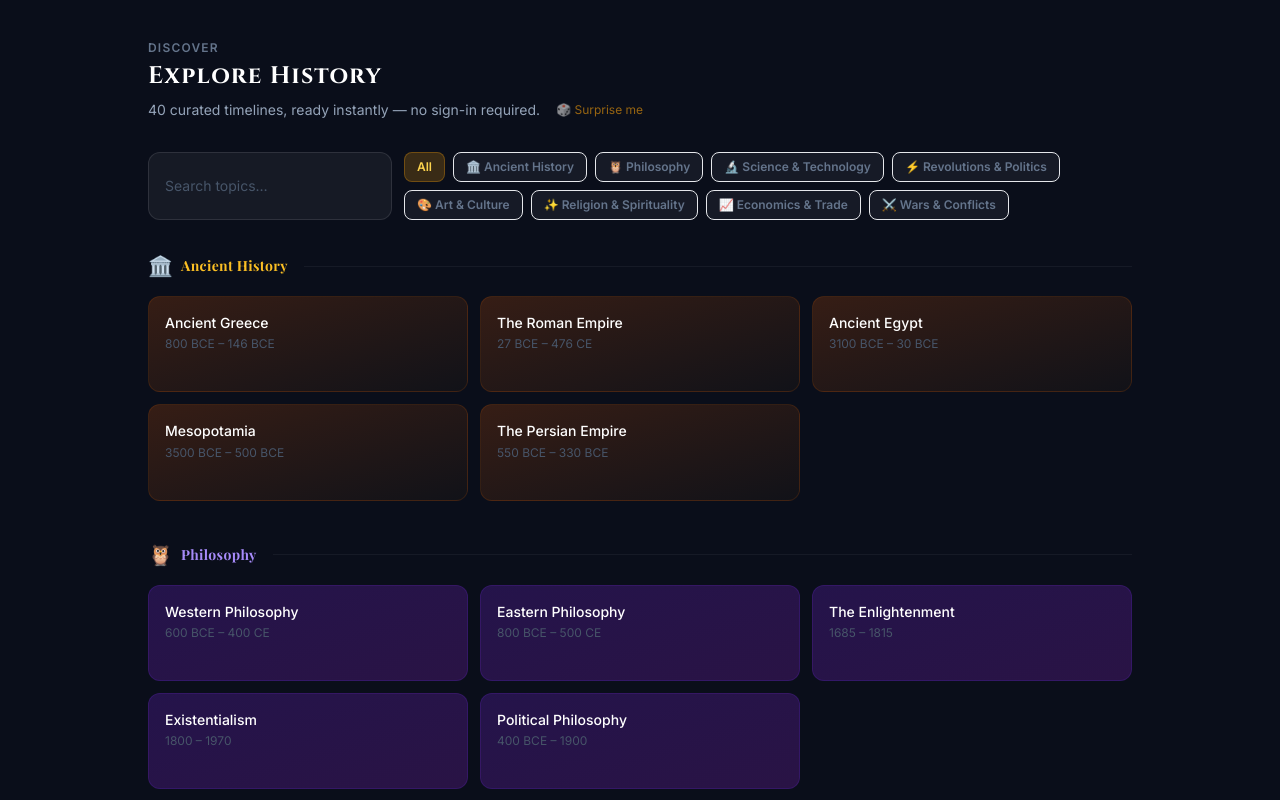
it: Discover › clicking the active category chip again shows all
Click the button "🦉 Philosophy".
click(649, 167)  # box 595,152 -> 703,182
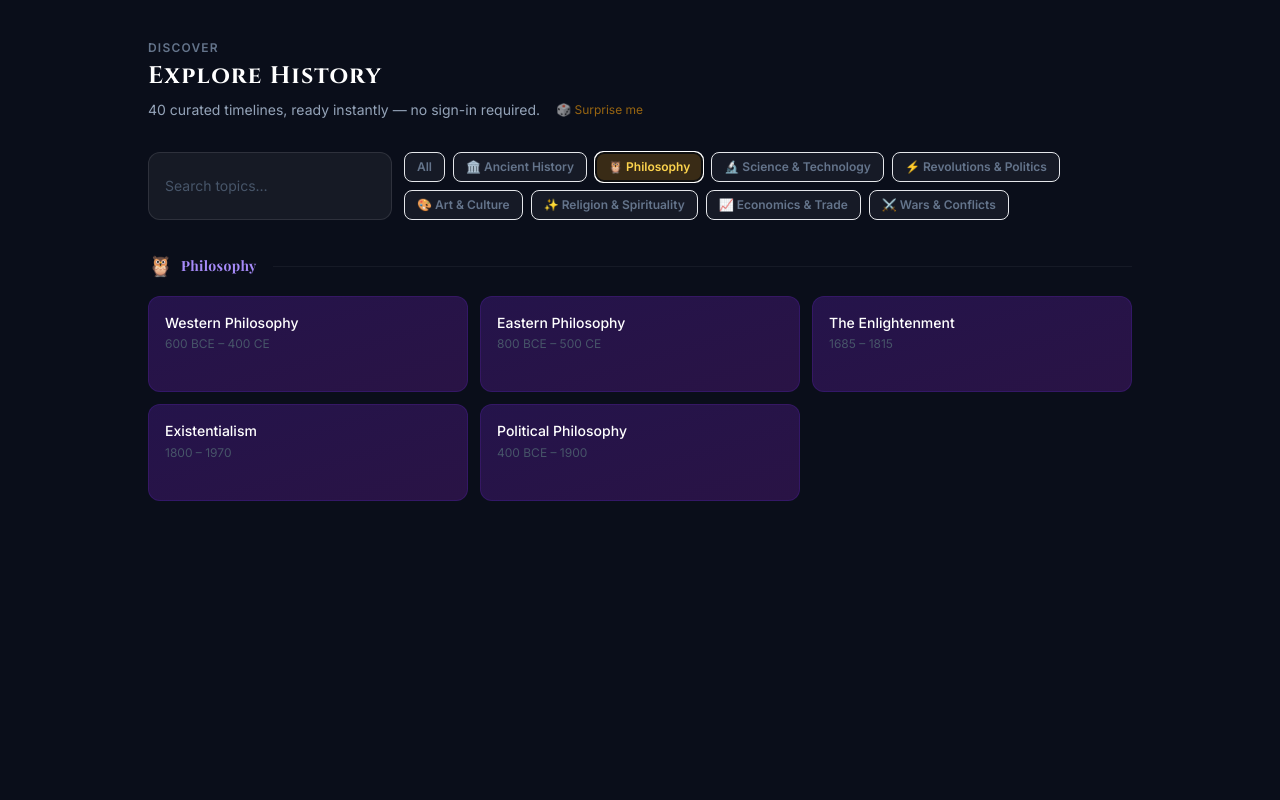
Click the button "🦉 Philosophy".
click(649, 167)  # box 595,152 -> 703,182
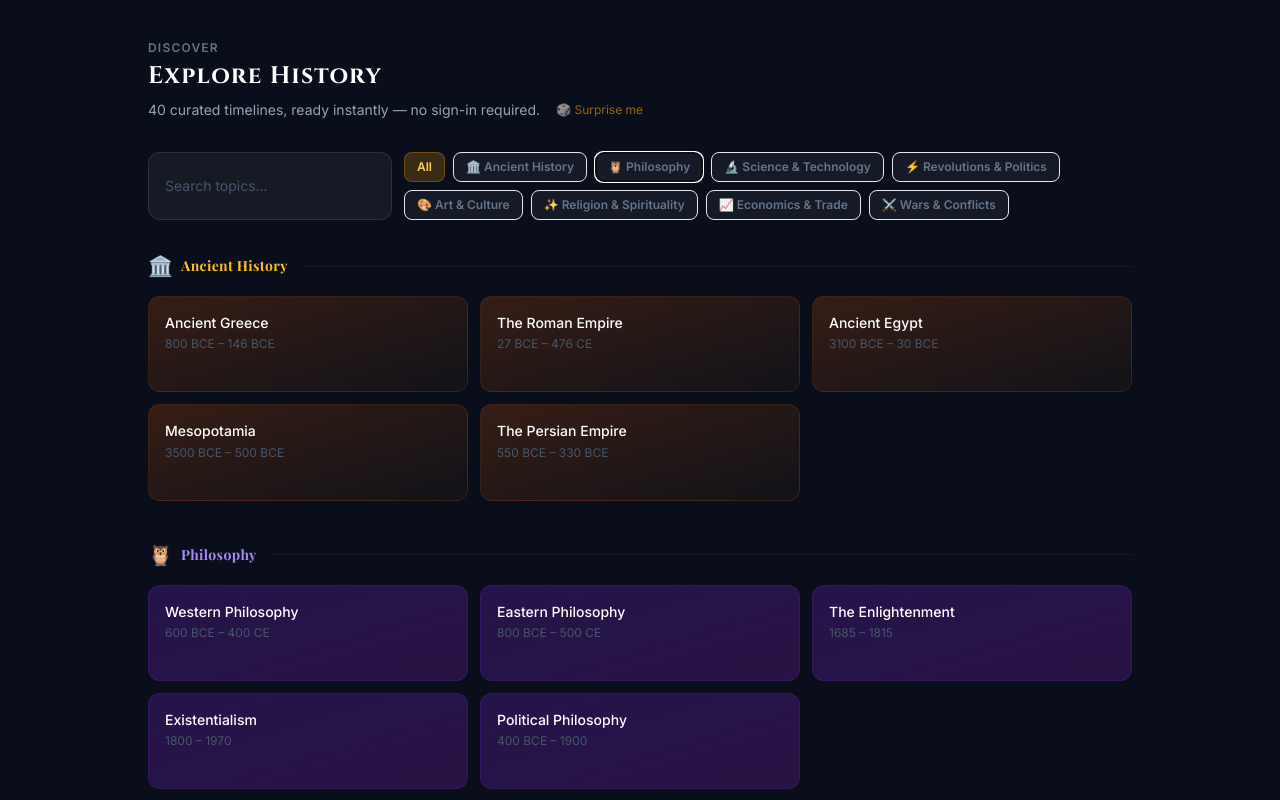
Expected: the text "Ancient Greece" is shown, 165,314 -> 268,331
